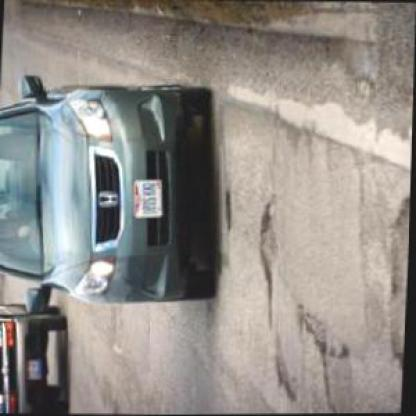pothole: (384, 192, 411, 368), (255, 198, 286, 278)
